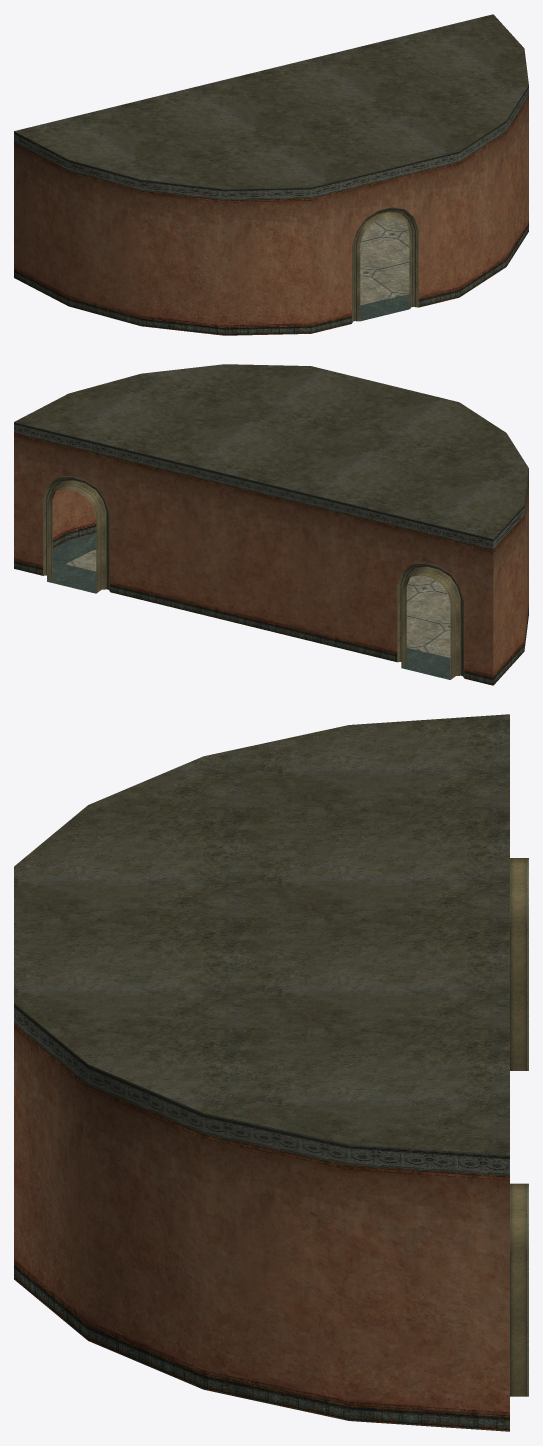
The model's file is mun_tato_hotel_s01_r2_mesh_foyer2.fbx.
3 views of the same model, one above another, from view 1: azimuth 30°, elevation 25°; view 2: azimuth 150°, elevation 25°; view 3: azimuth 270°, elevation 25° (orthographic). The views are drawn at different scales.
Visible parts, largest first — view 1: mesh_node; view 2: mesh_node; view 3: mesh_node.
Part boxes in pixels (x1=…): mesh_node: x1=14, y1=14, x2=528, y2=335; mesh_node: x1=14, y1=364, x2=528, y2=685; mesh_node: x1=14, y1=714, x2=528, y2=1431.
Size of the model in its own units: 15.95 by 4.66 by 7.87.
